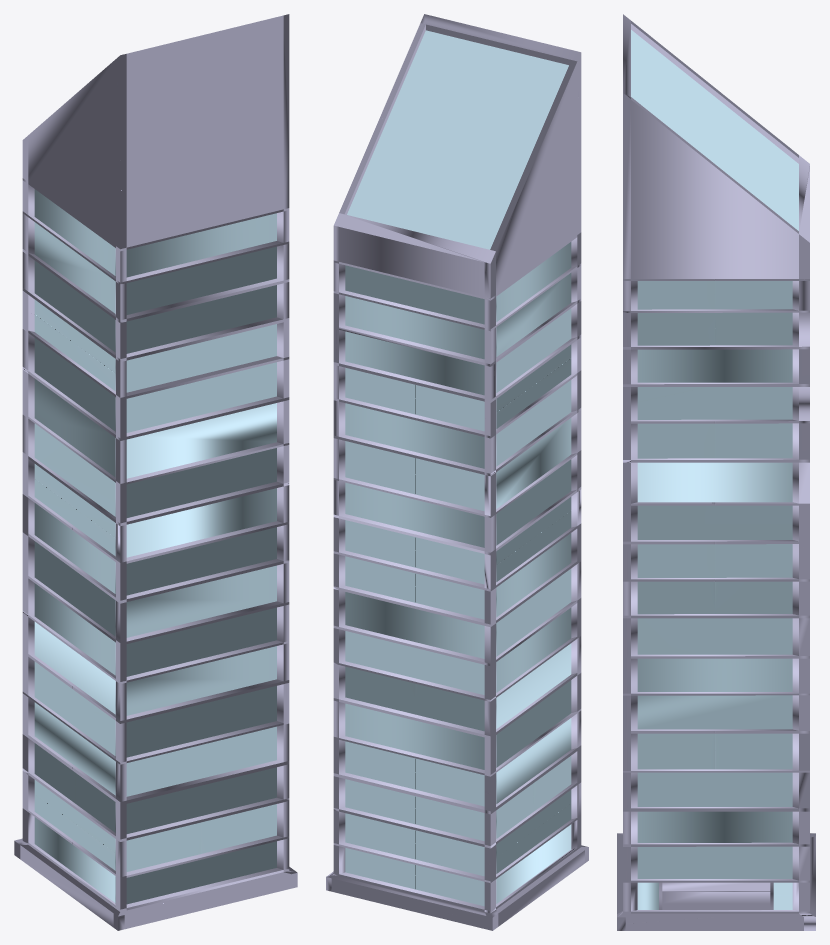
Rendered from building2.glb.
The picture shows the model from 3 angles, left to right: view 1: azimuth 30°, elevation 25°; view 2: azimuth 150°, elevation 25°; view 3: azimuth 270°, elevation 25°; orthographic projection. The views are drawn at different scales.
Visible parts, largest first — view 1: Skyscraper_4; view 2: Skyscraper_4; view 3: Skyscraper_4.
Part boxes in pixels (x1,y1,x2,y2): Skyscraper_4: (14, 14, 297, 930); Skyscraper_4: (326, 14, 588, 930); Skyscraper_4: (617, 14, 815, 930).
Bounding box in the file's own units: 3.54 × 15.78 × 3.4.
